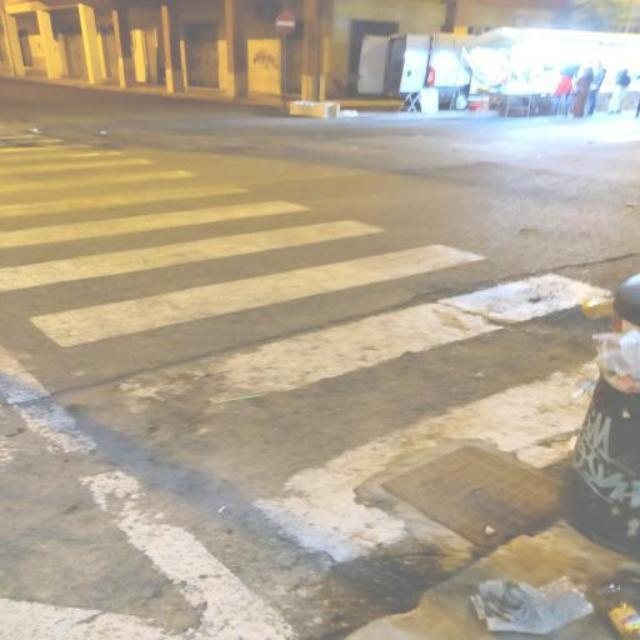sidewalk: (0, 131, 636, 607)
